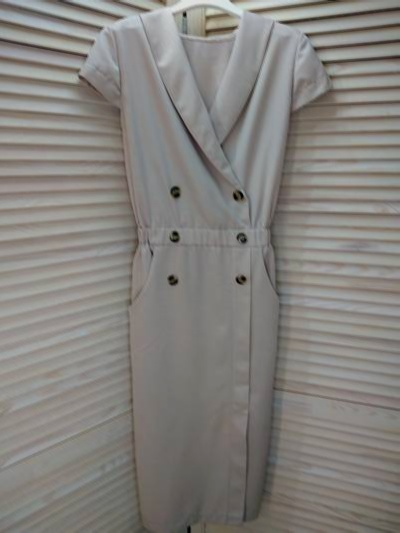Dress: (74, 12, 335, 527)
